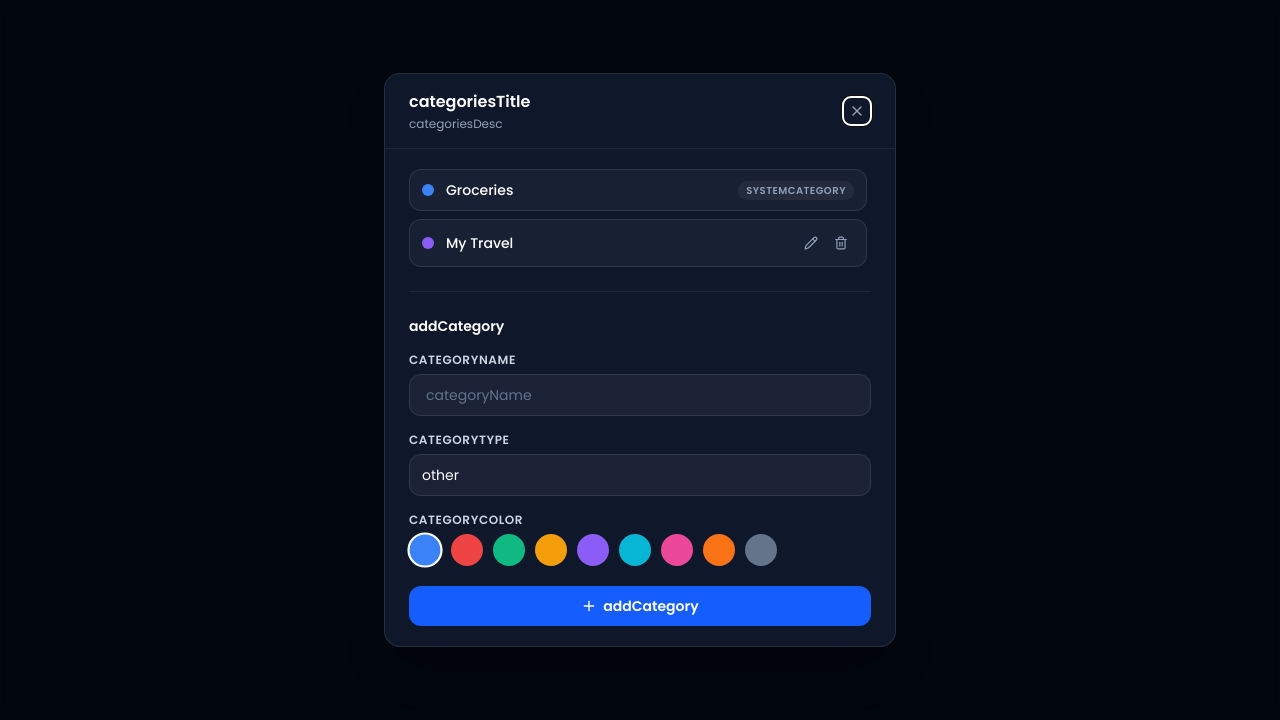
Test: CategoryManagerModal › should cancel inline deletion and keep the category
Click the button named "deleteCategory: My Travel" at (841, 243), box [828,230,854,256]
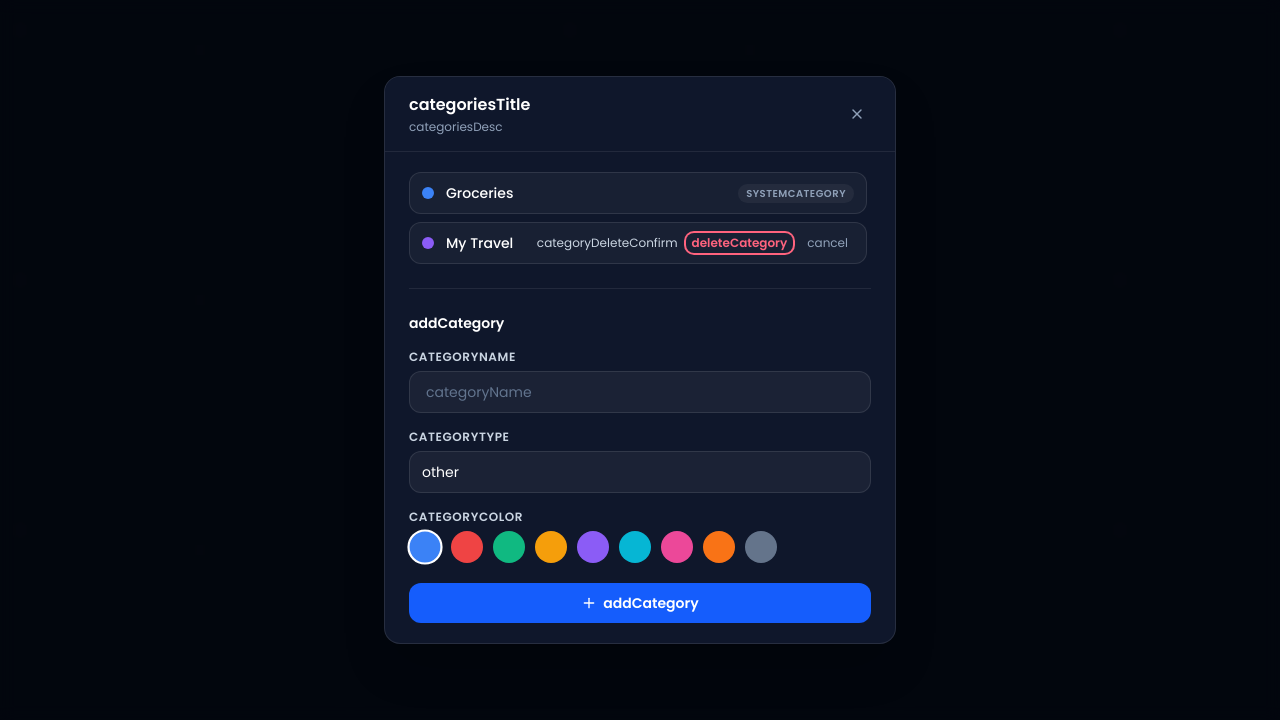
Now the text "categoryDeleteConfirm" is shown, box [537,235,678,251]
Click the button "cancel" at (828, 243), box [801,233,854,253]
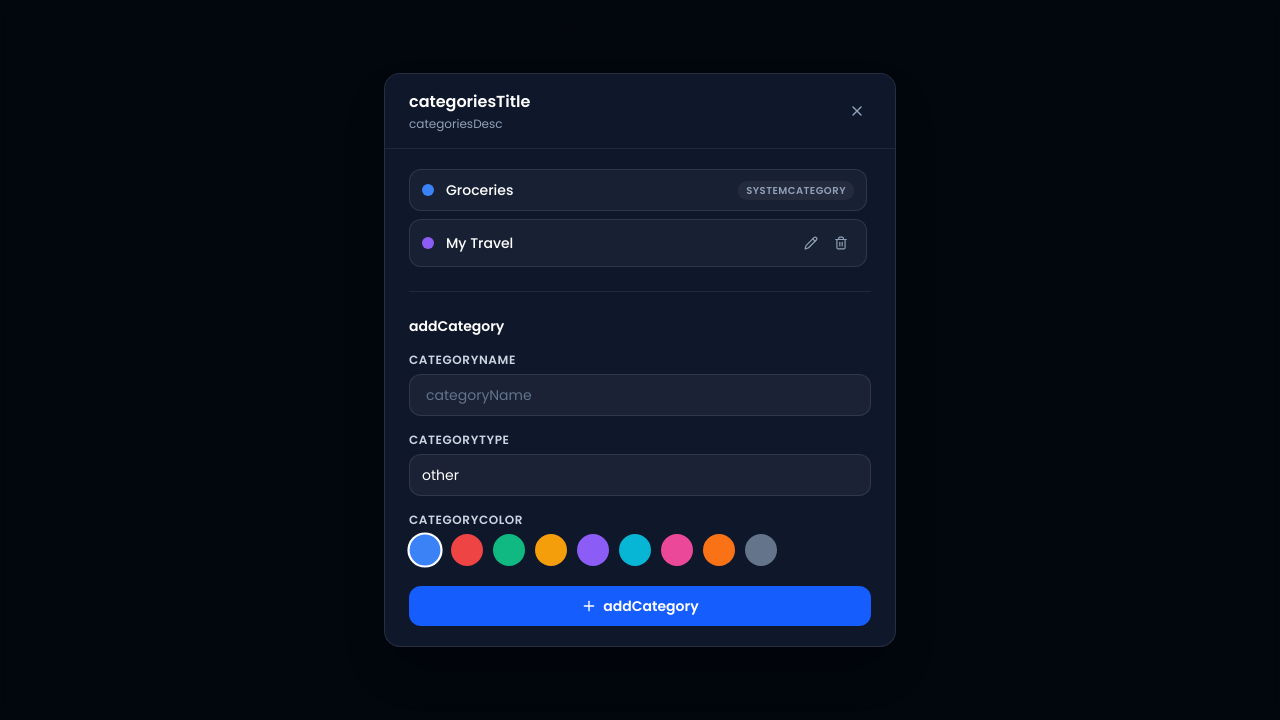
Now the text "categoryDeleteConfirm" is gone
